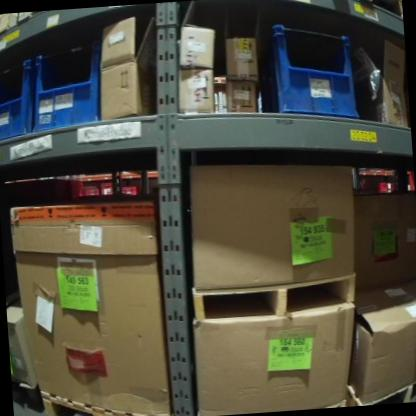pallet: (189, 270, 361, 330), (38, 381, 169, 416), (343, 373, 416, 407)
small_load_carrier: (255, 16, 364, 127), (28, 38, 108, 135), (0, 52, 43, 144), (99, 182, 117, 197), (117, 186, 139, 196)
